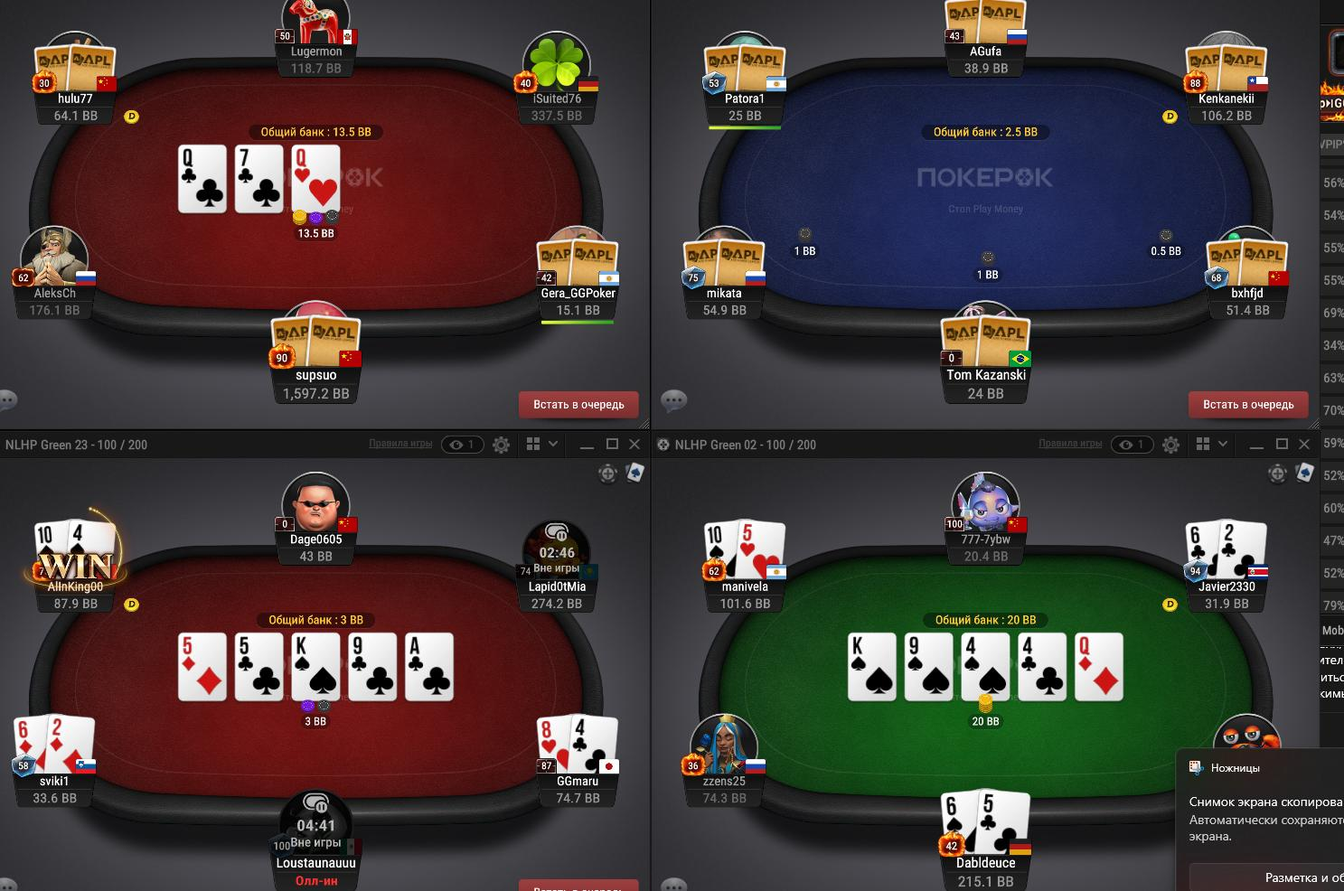10s: (703, 521, 740, 581), (33, 520, 69, 558)
2c: (1218, 516, 1270, 582)
2d: (47, 712, 96, 774)
4c: (1018, 632, 1066, 699), (569, 715, 619, 775)
4s: (962, 633, 1009, 699), (67, 518, 116, 553)
5c: (977, 790, 1030, 856), (236, 633, 284, 699)
5d: (180, 634, 229, 702)
5h: (738, 515, 787, 578)
6c: (1182, 521, 1221, 578)
6d: (12, 714, 50, 775)
6s: (940, 790, 980, 854)
7c: (233, 147, 283, 212)
8h: (537, 710, 573, 776)
9c: (349, 632, 396, 700)
9s: (905, 634, 954, 699)
Ac: (404, 633, 453, 700)
Ks: (292, 632, 341, 701), (849, 634, 896, 699)
Qc: (181, 143, 227, 213)
Qd: (1076, 633, 1121, 699)
Qh: (292, 145, 341, 211)
